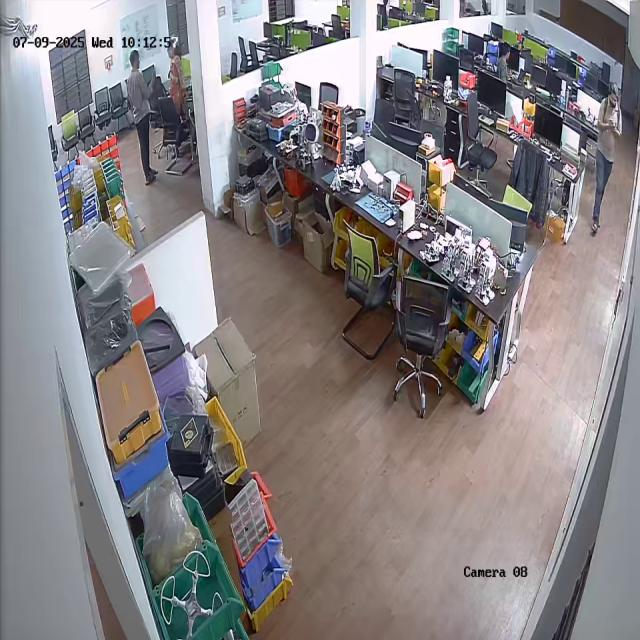person: (588, 79, 624, 233), (125, 49, 157, 187)
